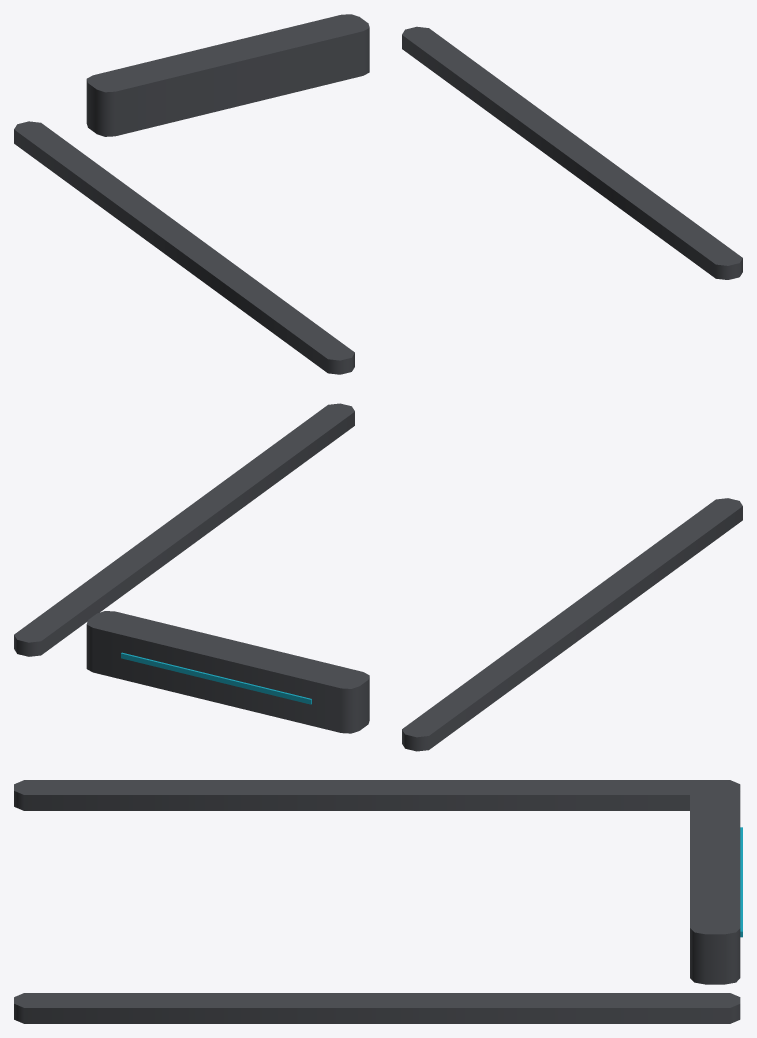
Rendered from c1_mount.obj.
3 renders of one model, top to bottom at view 1: azimuth 30°, elevation 25°; view 2: azimuth 150°, elevation 25°; view 3: azimuth 270°, elevation 25°, orthographic. The views are drawn at different scales.
Parts seen in each view (by area): view 1: c1_mount; view 2: c1_mount; view 3: c1_mount.
Part boxes in pixels (x1,y1,x2,y2): c1_mount: (14, 14, 742, 374); c1_mount: (14, 403, 742, 751); c1_mount: (14, 780, 742, 1023).
Size of the model in its own units: 1.07 by 0.11 by 1.45.
